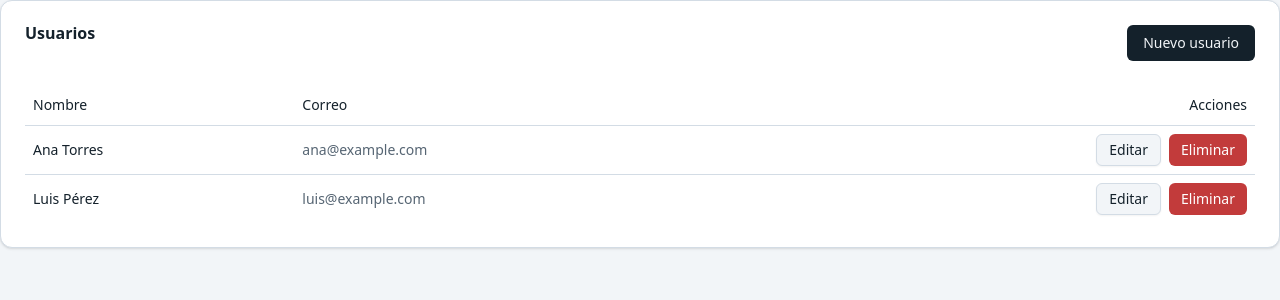
Test: editar usuario › llega desde el botón Editar del listado
This screenshot has width=1280, height=300.
Click the link with aria-label "Editar Luis Pérez" at (1129, 198), box x1=1096 y1=182 x2=1161 y2=214
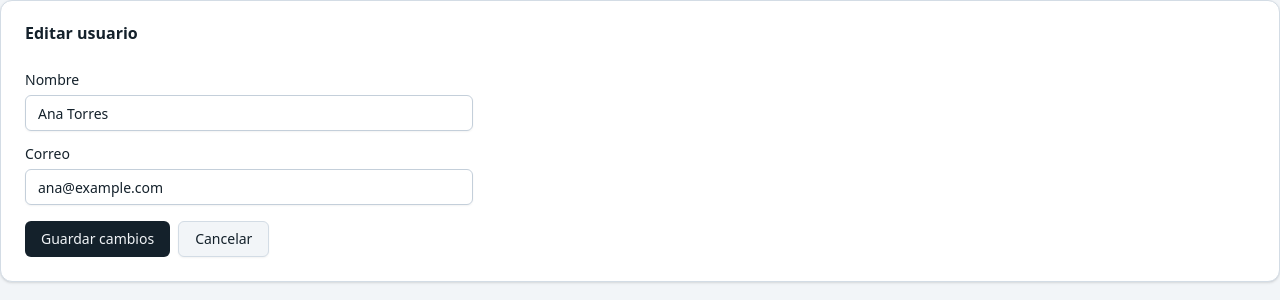
Expected: the text "Editar usuario" is shown, x1=25 y1=22 x2=138 y2=44
